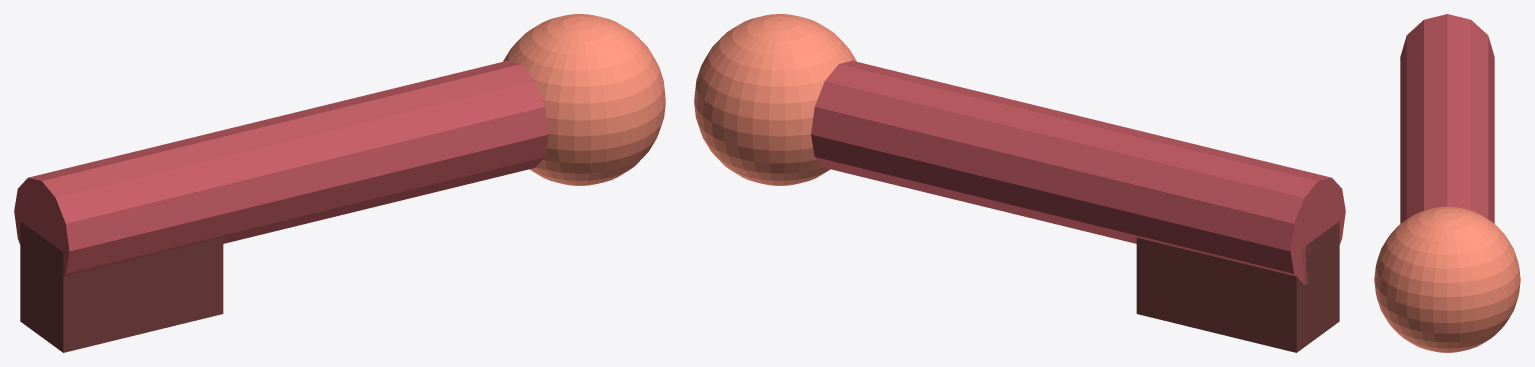
The model's file is gun_laser.glb.
3 renders of one model, left to right at view 1: azimuth 30°, elevation 25°; view 2: azimuth 150°, elevation 25°; view 3: azimuth 270°, elevation 25°, orthographic. The views are drawn at different scales.
Visible parts, largest first — view 1: gun_laser; view 2: gun_laser; view 3: gun_laser.
Boxes of the visible parts, x1,y1,x2,y2 form: gun_laser: (14,14,665,352); gun_laser: (694,14,1345,352); gun_laser: (1374,14,1520,352).
Size of the model in its own units: 0.575 by 0.165 by 0.14.
